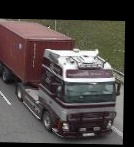truck: (0, 21, 123, 137)
